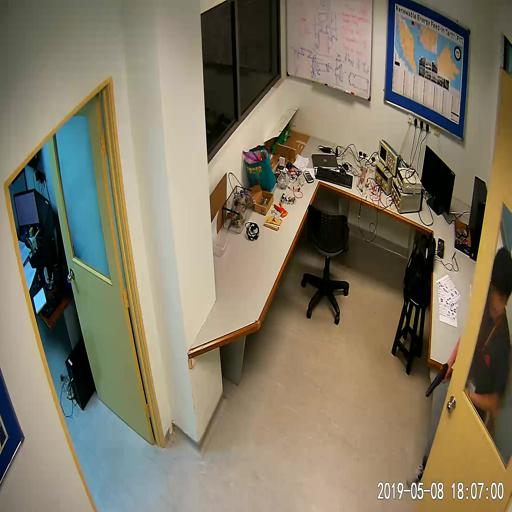pistol: (425, 361, 450, 394)
